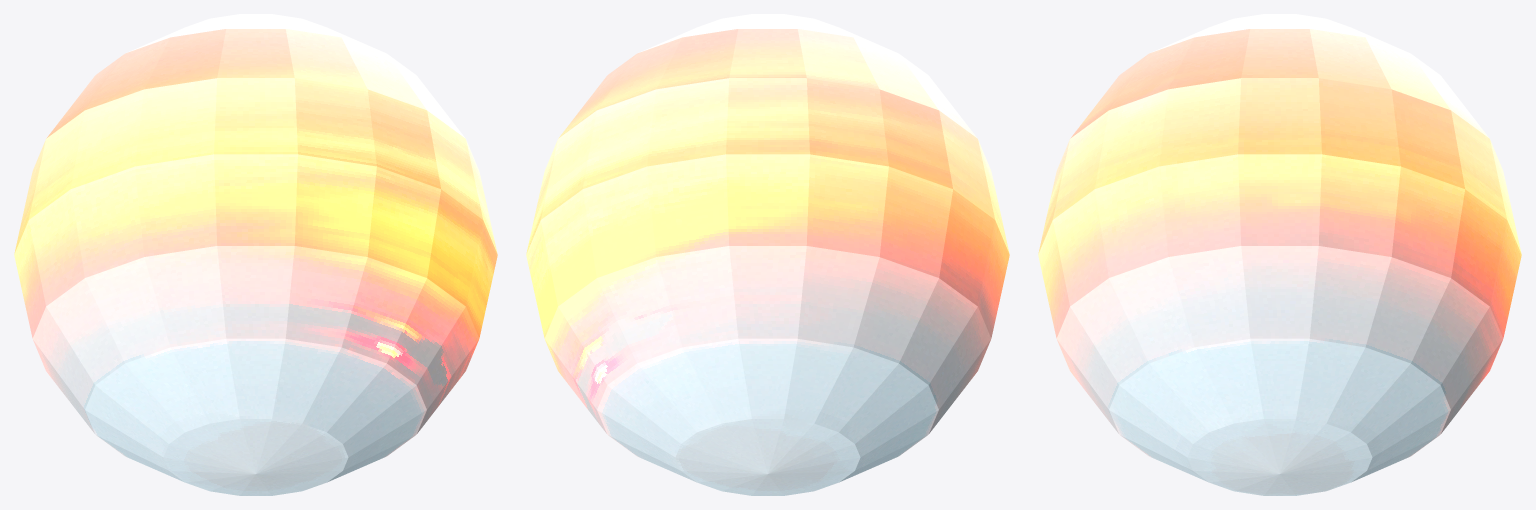
The model's file is SunsetSkybox.glb.
3 views of the same model, side by side, from view 1: azimuth 30°, elevation 25°; view 2: azimuth 150°, elevation 25°; view 3: azimuth 270°, elevation 25° (orthographic).
Parts seen in each view (by area): view 1: SunsetBackground; view 2: SunsetBackground; view 3: SunsetBackground.
Part boxes in pixels (bbox=[...]): SunsetBackground: bbox=[14, 14, 497, 495]; SunsetBackground: bbox=[526, 14, 1009, 495]; SunsetBackground: bbox=[1038, 14, 1521, 495].
Size of the model in its own units: 39.39 by 40 by 40.
